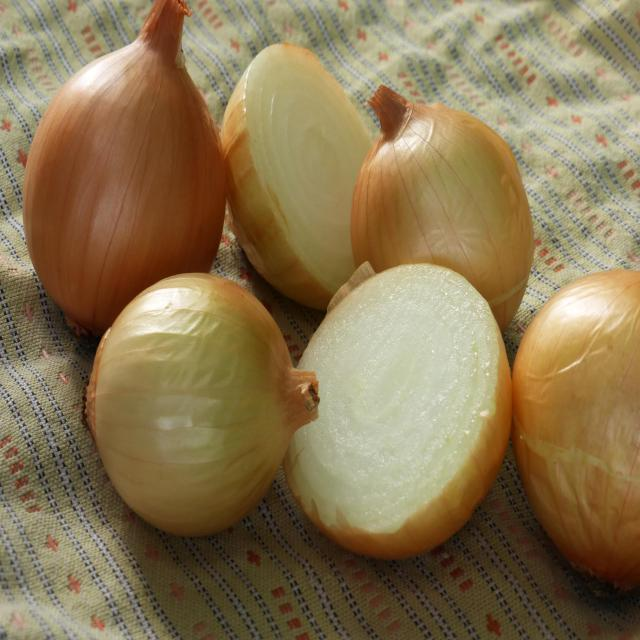onion: (72, 277, 328, 529), (13, 9, 226, 306), (293, 264, 510, 552), (353, 87, 534, 318), (205, 35, 366, 288)
